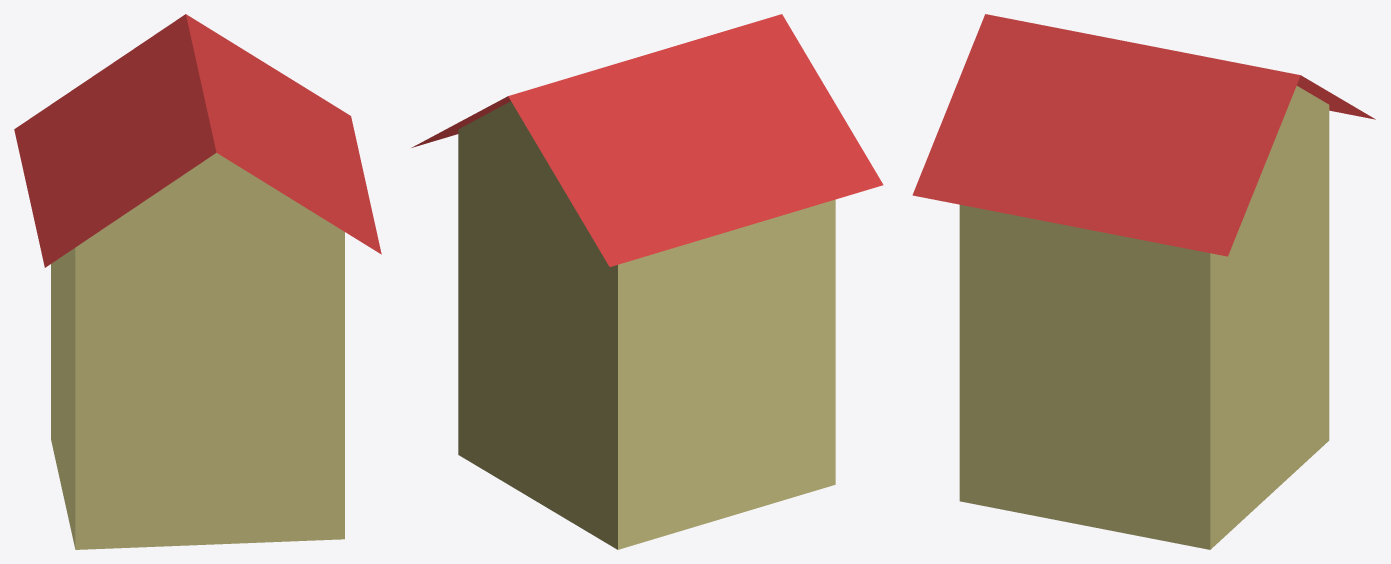
3 renders of one model, left to right at view 1: azimuth 30°, elevation 25°; view 2: azimuth 150°, elevation 25°; view 3: azimuth 270°, elevation 25°, orthographic. The views are drawn at different scales.
Bounding box in the file's own units: 13.15 × 13.03 × 13.24.
